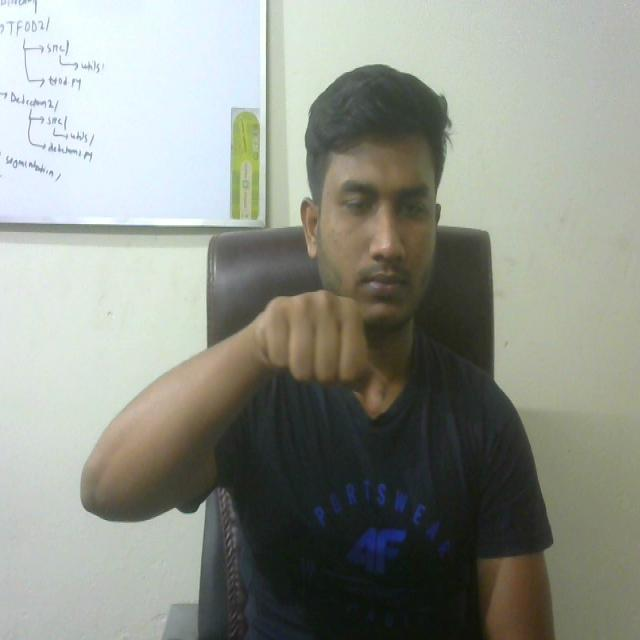Yes: (234, 274, 400, 438)
